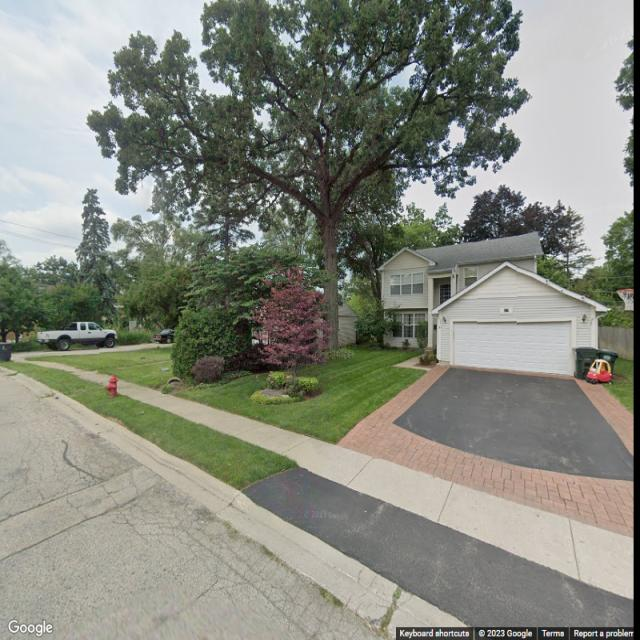House: (376, 231, 611, 384), (266, 287, 359, 349)
